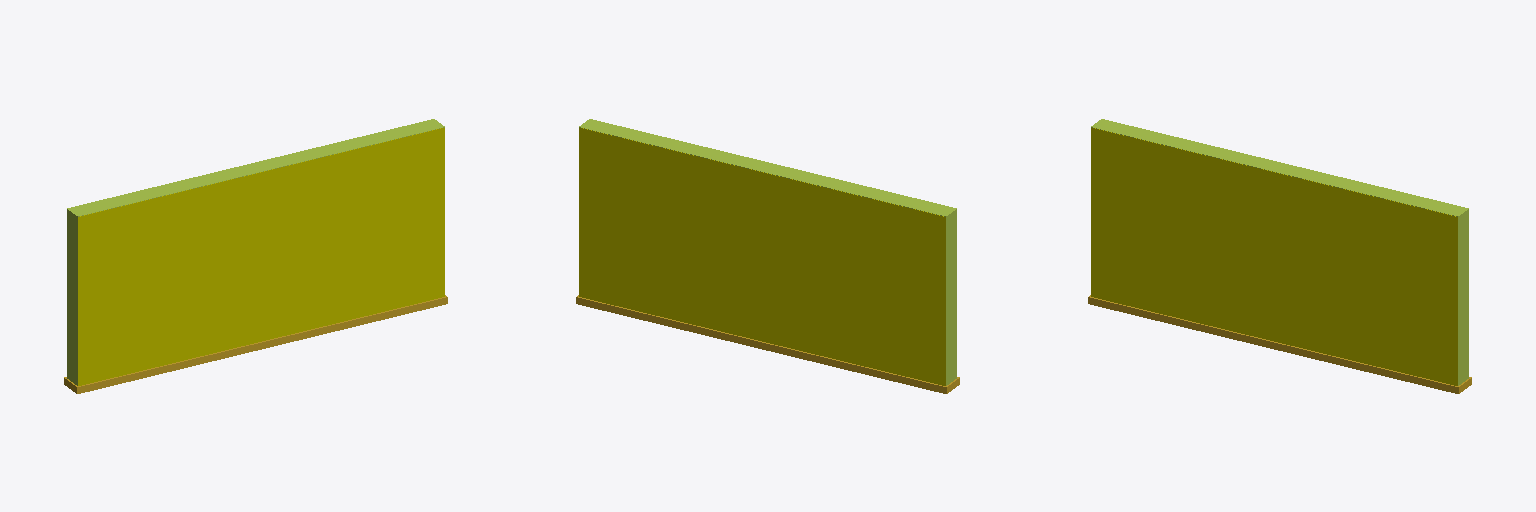
Rendered from Wall.obj.
3 views of the same model, side by side, from view 1: azimuth 30°, elevation 25°; view 2: azimuth 150°, elevation 25°; view 3: azimuth 330°, elevation 25° (orthographic).
Visible parts, largest first — view 1: Cube_Cube.003, Cube.002_Cube.005, Cube.001_Cube.004; view 2: Cube_Cube.003, Cube.002_Cube.005, Cube.001_Cube.004; view 3: Cube_Cube.003, Cube.002_Cube.005, Cube.001_Cube.004.
Part boxes in pixels (x1,y1,x2,y2): Cube_Cube.003: (78, 128, 444, 385); Cube.002_Cube.005: (67, 119, 444, 385); Cube.001_Cube.004: (64, 295, 447, 393); Cube_Cube.003: (579, 128, 945, 385); Cube.002_Cube.005: (579, 119, 956, 385); Cube.001_Cube.004: (576, 295, 959, 393); Cube_Cube.003: (1091, 128, 1457, 385); Cube.002_Cube.005: (1091, 119, 1468, 385); Cube.001_Cube.004: (1088, 295, 1471, 393).
Size of the model in its own units: 11.1 by 5.05 by 0.7.